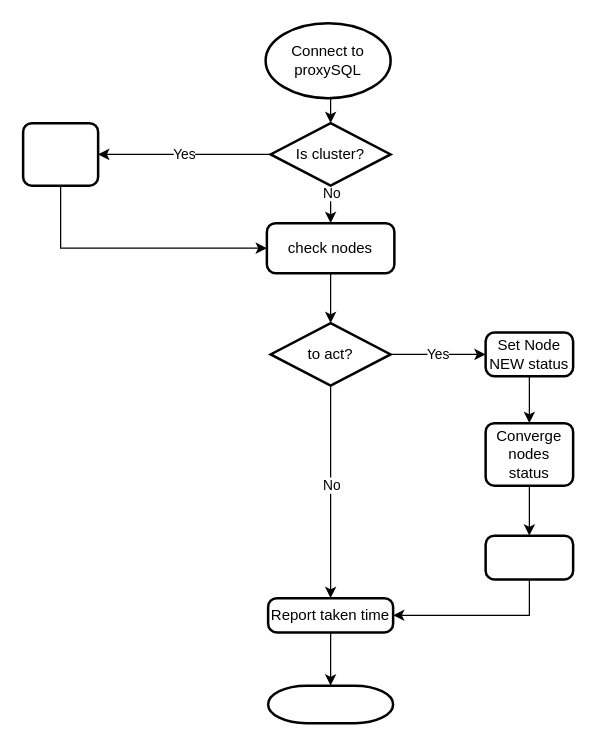
The diagram is 595 pixels wide and 745 high, and some of its shapes have lost their labels. Each missing label, with the centre of its shape:
"Apply node status" belongs at (x=529, y=557).
"Check cluster config" belongs at (x=60, y=153).
"End" belongs at (x=330, y=704).
